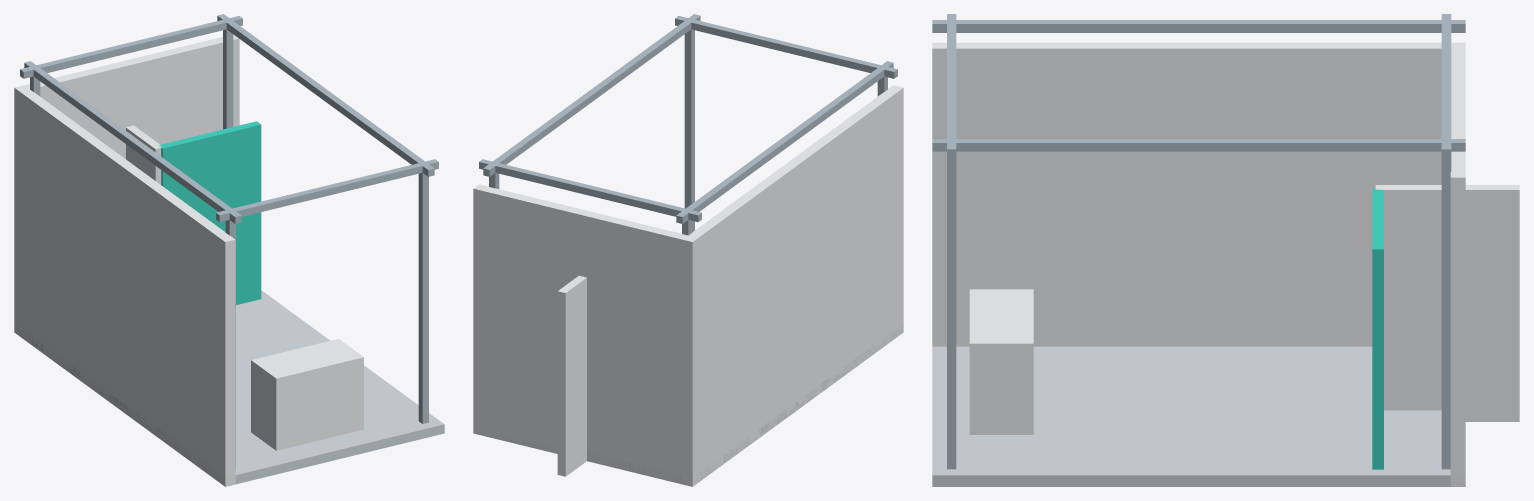
3 views of the same model, side by side, from view 1: azimuth 30°, elevation 25°; view 2: azimuth 150°, elevation 25°; view 3: azimuth 270°, elevation 25° (orthographic). The views are drawn at different scales.
Visible parts, largest first — view 1: Exhibition Booth Concept; view 2: Exhibition Booth Concept; view 3: Exhibition Booth Concept.
Boxes of the visible parts, box(x1,y1,x2,y2) form: Exhibition Booth Concept: box(14, 14, 444, 486); Exhibition Booth Concept: box(473, 14, 903, 486); Exhibition Booth Concept: box(932, 14, 1519, 486).
Bounding box in the file's own units: 3 × 3.49 × 5.51.
